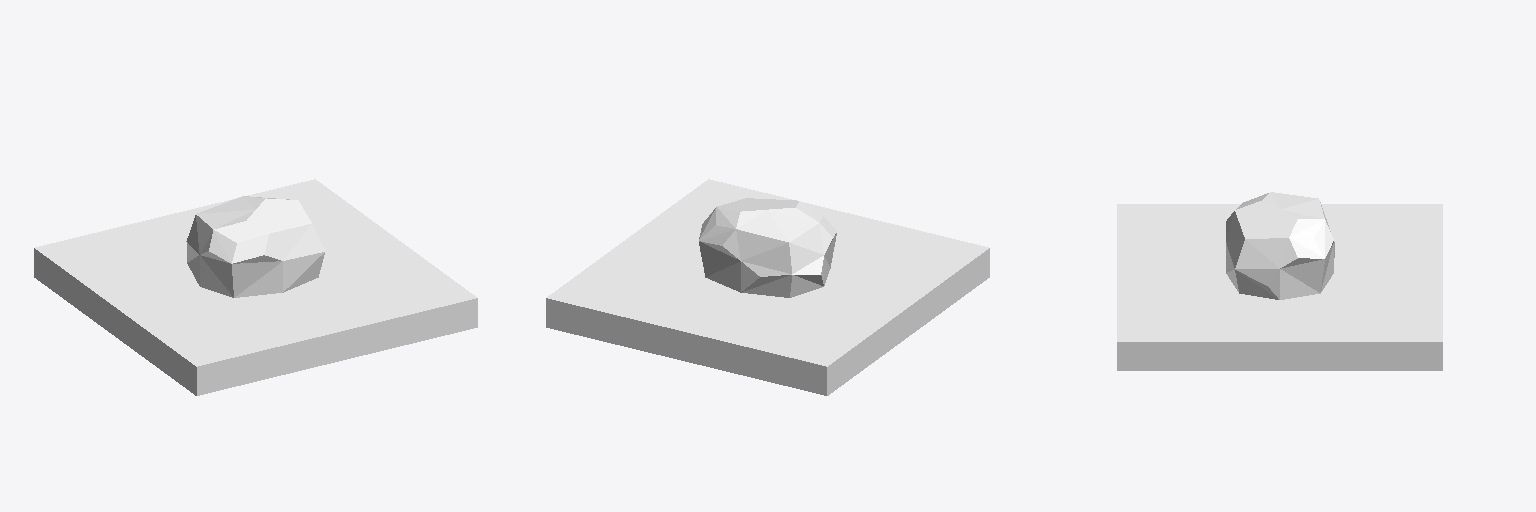
File: Shrub.obj
The picture shows the model from 3 angles: view 1: azimuth 30°, elevation 25°; view 2: azimuth 150°, elevation 25°; view 3: azimuth 270°, elevation 25°; orthographic projection.
Visible parts, largest first — view 1: cube1; view 2: cube1; view 3: cube1.
Part boxes in pixels (x1,y1,x2,y2): cube1: (34,179,477,395); cube1: (546,179,989,395); cube1: (1117,192,1442,370).
Bounding box in the file's own units: 1 × 0.3149 × 1.